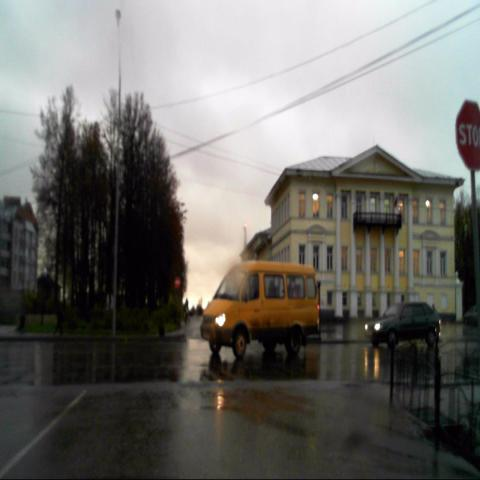2_5: (454, 100, 480, 170)
